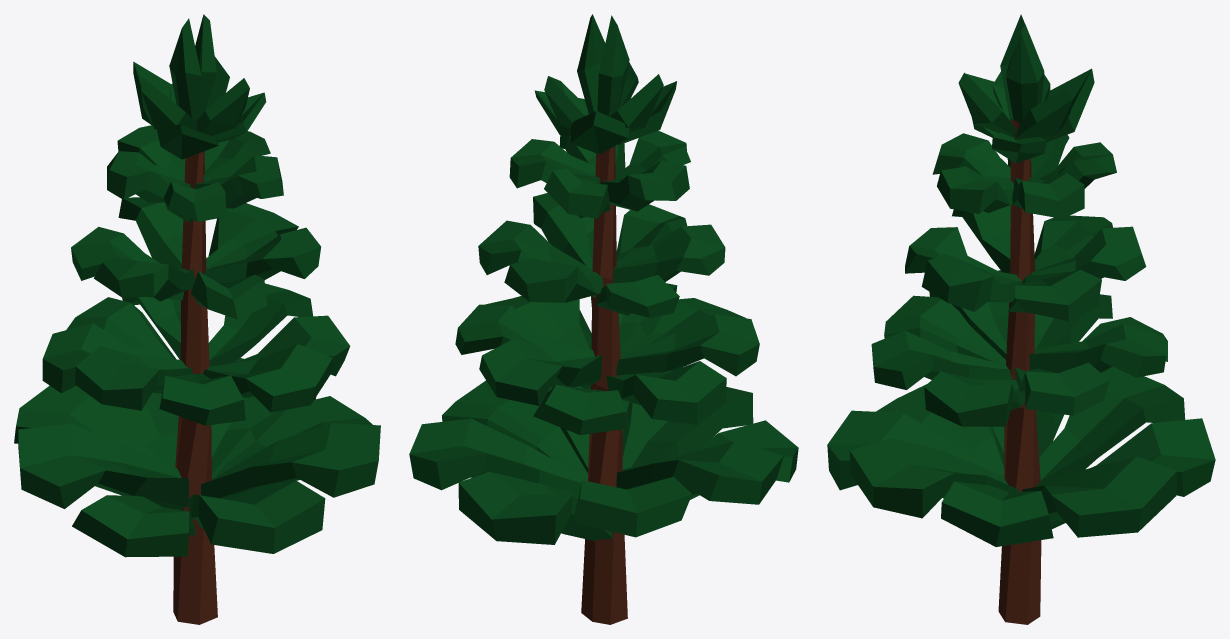
The model's file is Tree_6_Medium.fbx.
The picture shows the model from 3 angles, left to right: view 1: azimuth 30°, elevation 25°; view 2: azimuth 150°, elevation 25°; view 3: azimuth 270°, elevation 25°; orthographic projection.
Visible parts, largest first — view 1: Tree_6_Medium; view 2: Tree_6_Medium; view 3: Tree_6_Medium.
Part boxes in pixels (box(x1,y1,x2,y2)): Tree_6_Medium: box(14, 14, 380, 624); Tree_6_Medium: box(409, 14, 798, 624); Tree_6_Medium: box(827, 14, 1215, 624).
Size of the model in its own units: 128 by 226 by 133.
